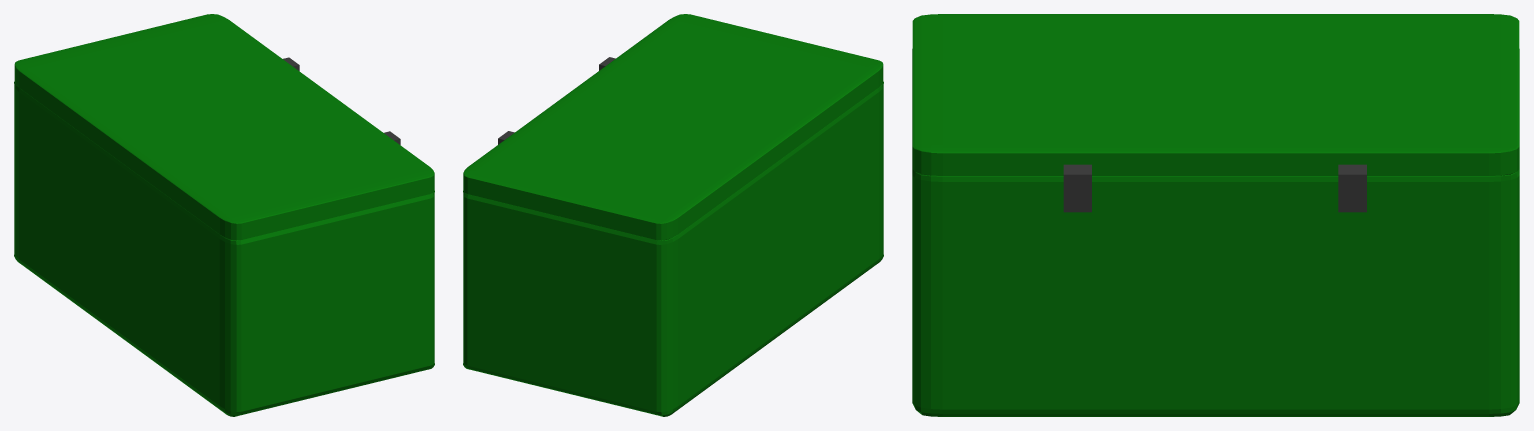
File: AmmoCreate.fbx
3 views of the same model, side by side, from view 1: azimuth 30°, elevation 25°; view 2: azimuth 150°, elevation 25°; view 3: azimuth 270°, elevation 25° (orthographic). The views are drawn at different scales.
Visible parts, largest first — view 1: Plane, Cube_003; view 2: Plane, Cube_003; view 3: Plane, Cube_003.
Part boxes in pixels (bbox=[...]): Plane: bbox=[14, 81, 434, 416]; Cube_003: bbox=[14, 14, 434, 240]; Plane: bbox=[463, 81, 883, 416]; Cube_003: bbox=[463, 14, 883, 240]; Plane: bbox=[912, 49, 1519, 416]; Cube_003: bbox=[912, 14, 1519, 212].
Bounding box in the file's own units: 2.52 × 2.12 × 4.33.
